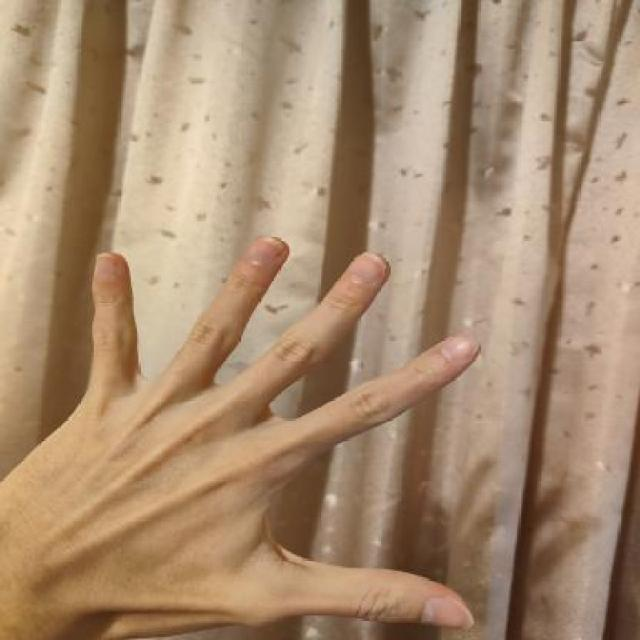bare_hand: (0, 223, 503, 639)
